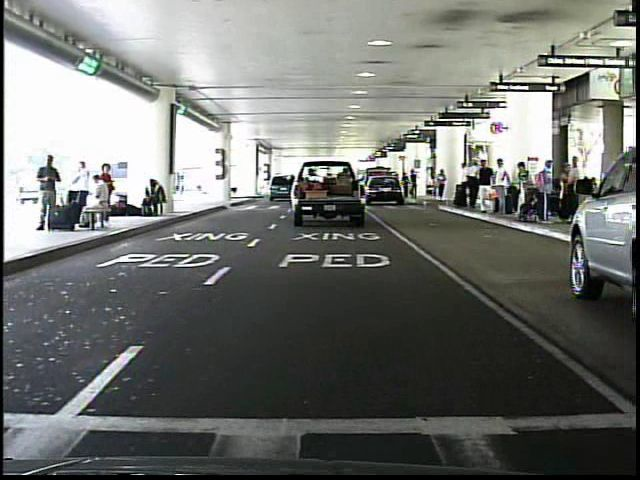person: (36, 152, 65, 234), (473, 157, 498, 223), (494, 158, 513, 219), (455, 157, 476, 212), (435, 166, 451, 206), (401, 170, 412, 203), (410, 170, 420, 204)
